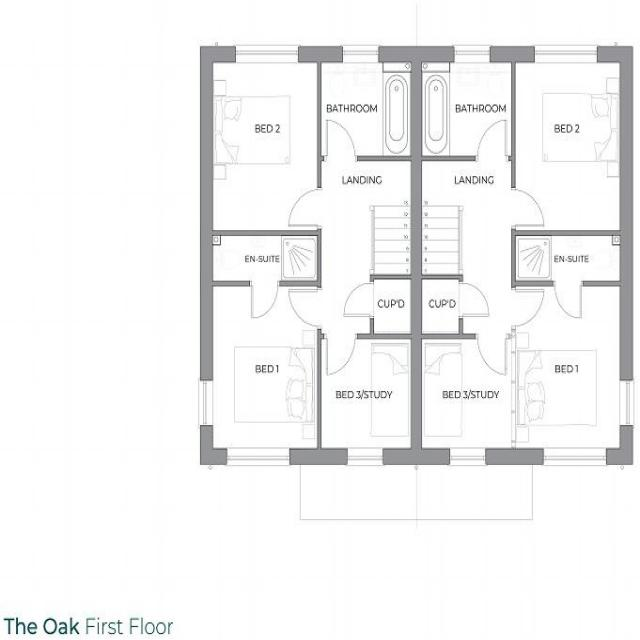DOOR: (323, 115, 361, 164), (323, 330, 359, 379), (473, 331, 509, 380), (286, 184, 324, 230), (475, 113, 510, 162), (508, 185, 546, 228), (284, 286, 322, 328), (509, 287, 546, 330), (248, 278, 282, 322), (455, 280, 492, 318), (342, 279, 376, 318)
ROOM: (510, 44, 635, 238), (198, 43, 323, 237), (198, 278, 324, 467), (510, 279, 635, 466), (408, 332, 518, 467), (315, 331, 423, 467)
WINDOW: (223, 444, 294, 469), (531, 42, 601, 66), (541, 444, 608, 469), (232, 42, 301, 66), (552, 278, 584, 322), (197, 376, 217, 428), (340, 42, 382, 65), (345, 445, 386, 468), (447, 445, 488, 468), (617, 377, 635, 427), (452, 44, 492, 65)
